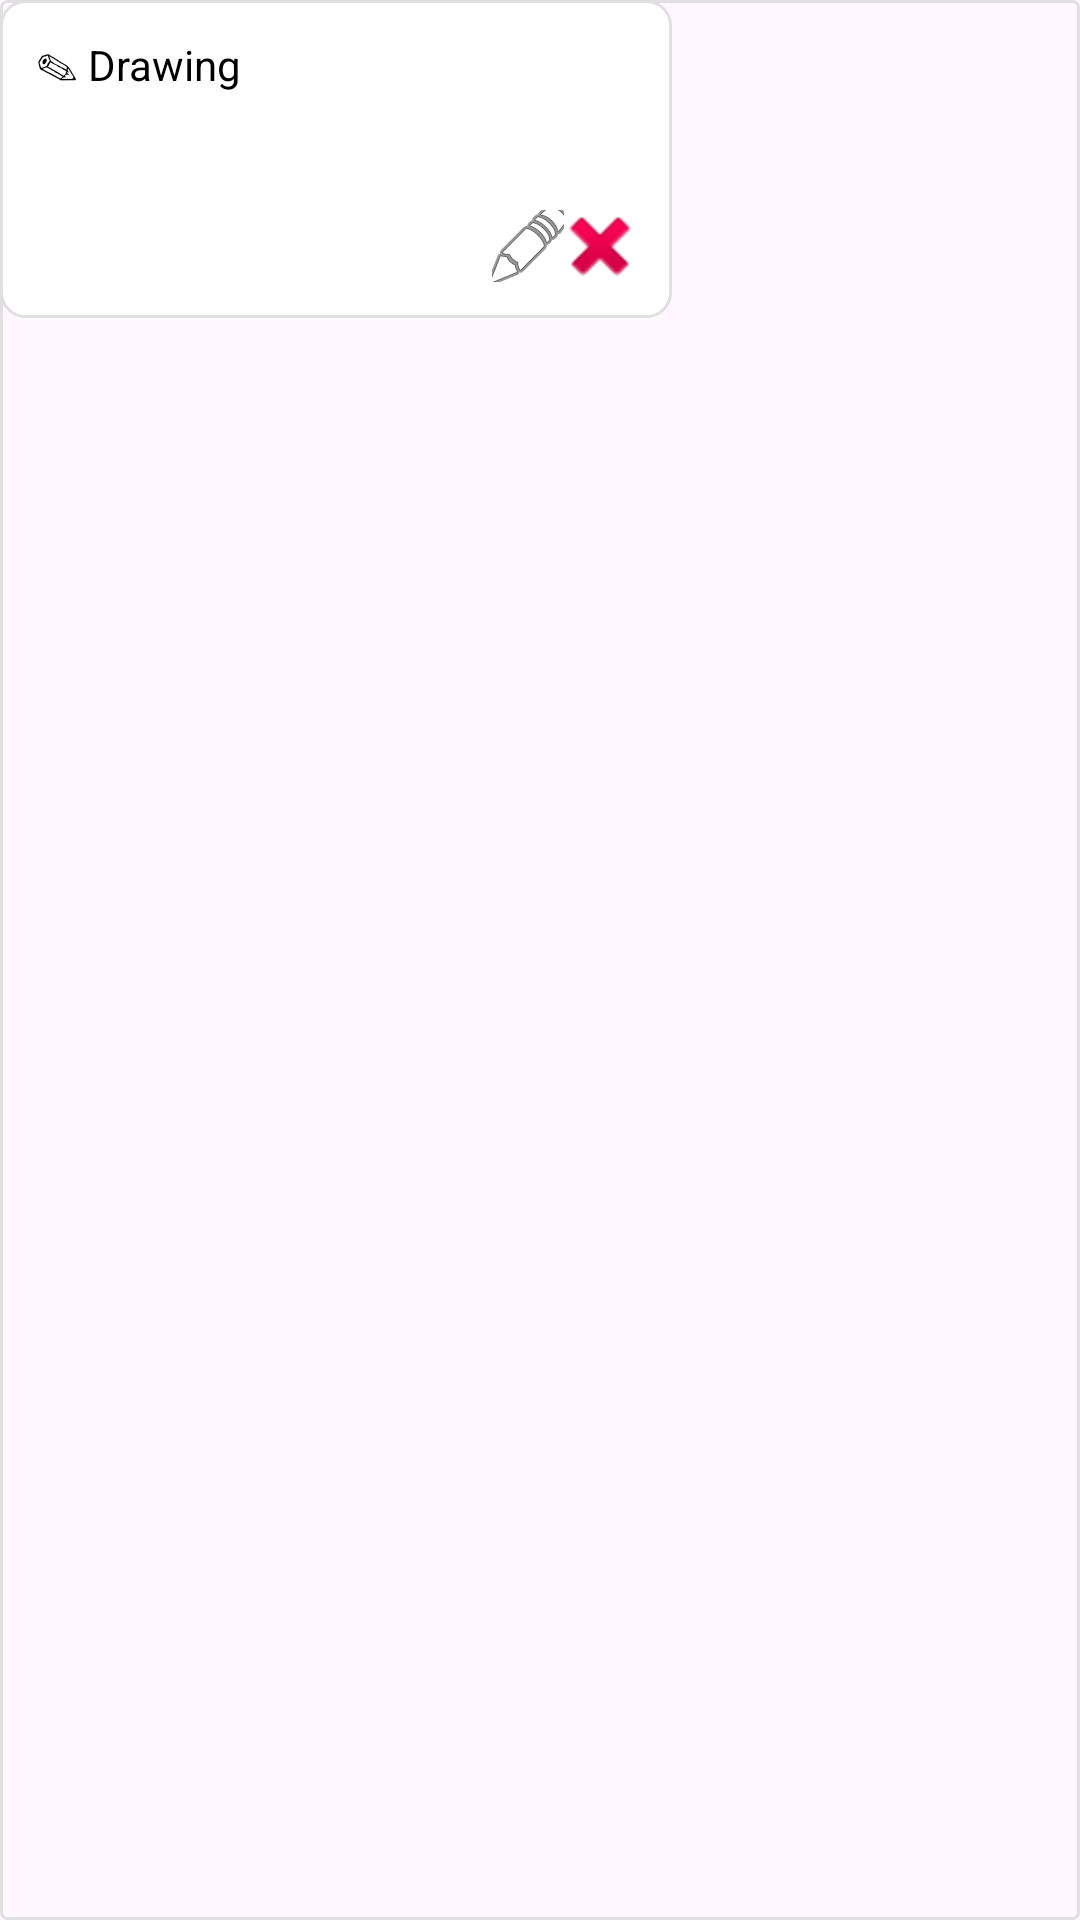

Icons on this 1080px x 1920px Android screen, each with its box as (x1, y1, x2, y2):
delete: (569, 217, 631, 276)
edit: (492, 210, 564, 282)
